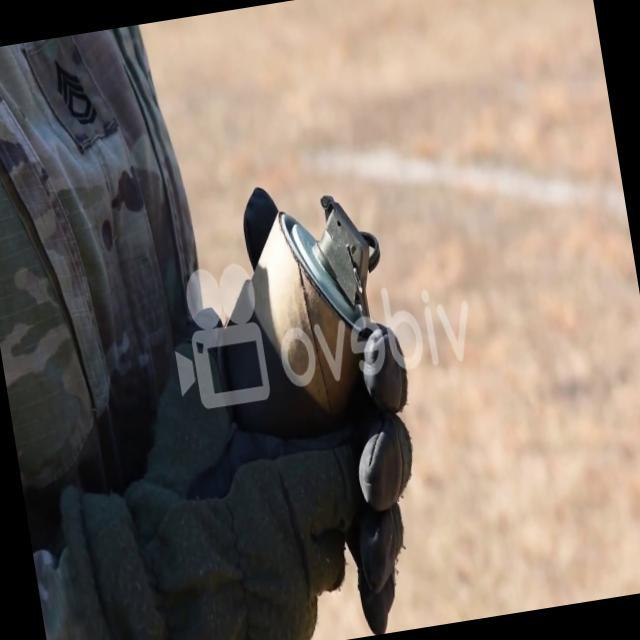grenade: (189, 178, 414, 456)
